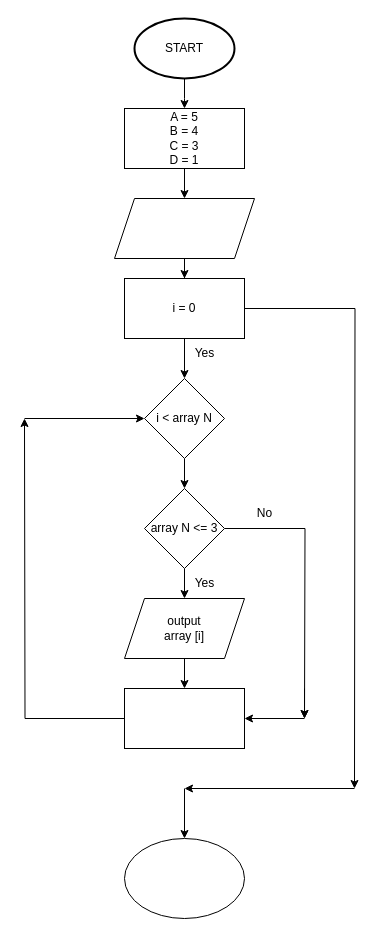
The diagram is 381 pixels wide and 936 high, and some of its shapes have lost their labels. The shapes that lost their labels are listed below. From the top down, each one's box as (x1, y1, x2, y2) in pixels, then its label:
(114, 198, 254, 258): array N [A, B, C, D]
(124, 688, 244, 748): i = i + 1
(124, 838, 244, 918): END
